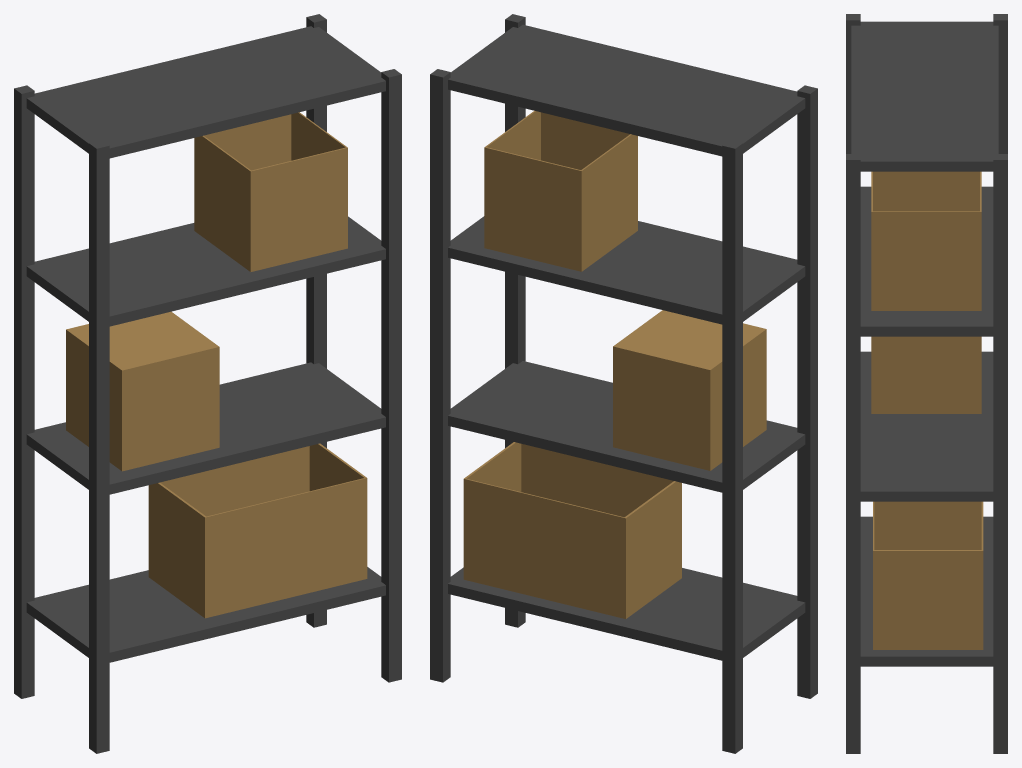
The model's file is Object_robotBase_shelf.fbx.
3 renders of one model, left to right at view 1: azimuth 30°, elevation 25°; view 2: azimuth 150°, elevation 25°; view 3: azimuth 270°, elevation 25°, orthographic.
Parts seen in each view (by area): view 1: estanteria.010; view 2: estanteria.010; view 3: estanteria.010.
Part boxes in pixels (<box>): estanteria.010: <box>14,14,401,753</box>; estanteria.010: <box>430,14,817,753</box>; estanteria.010: <box>846,14,1007,753</box>.
Size of the model in its own units: 0.9501 by 1.8 by 0.4447.
